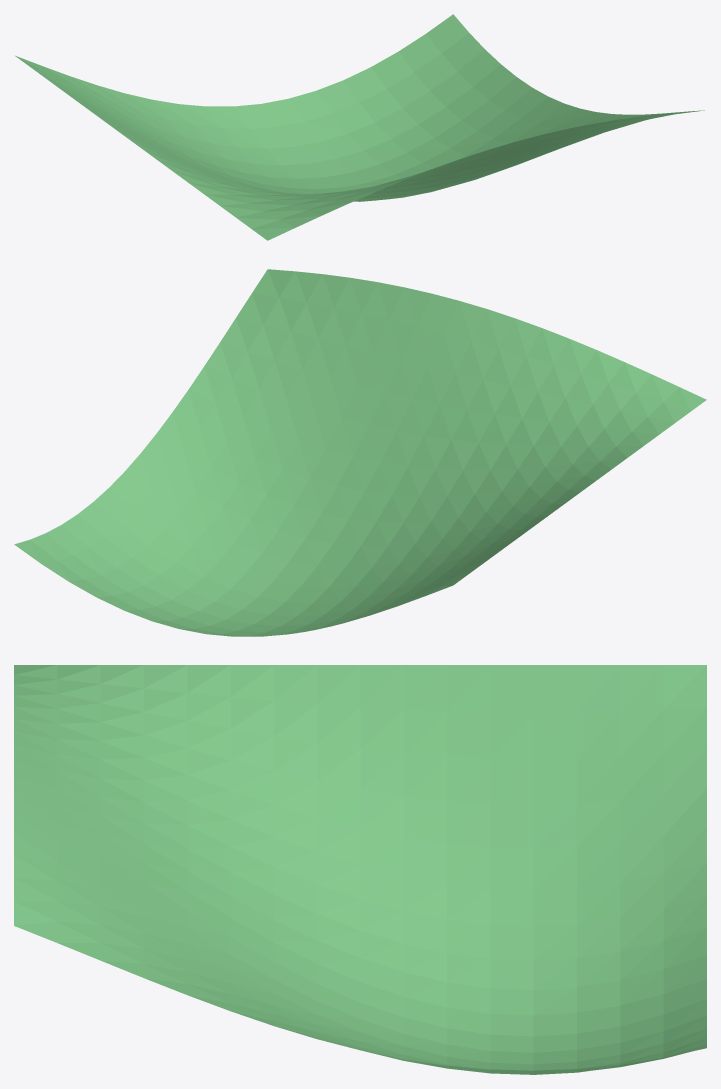
The picture shows the model from 3 angles, top to bottom: view 1: azimuth 30°, elevation 25°; view 2: azimuth 150°, elevation 25°; view 3: azimuth 270°, elevation 25°; orthographic projection. The views are drawn at different scales.
Bounding box in the file's own units: 10 × 3.85 × 10.
